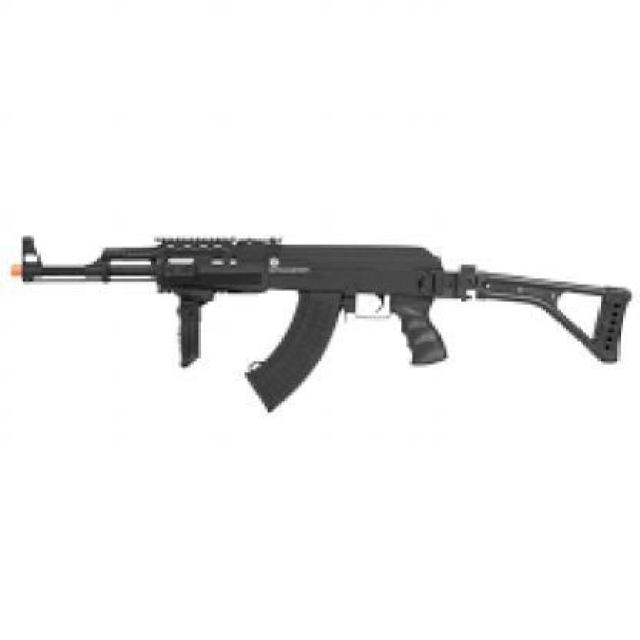weapon: (12, 226, 632, 422)
